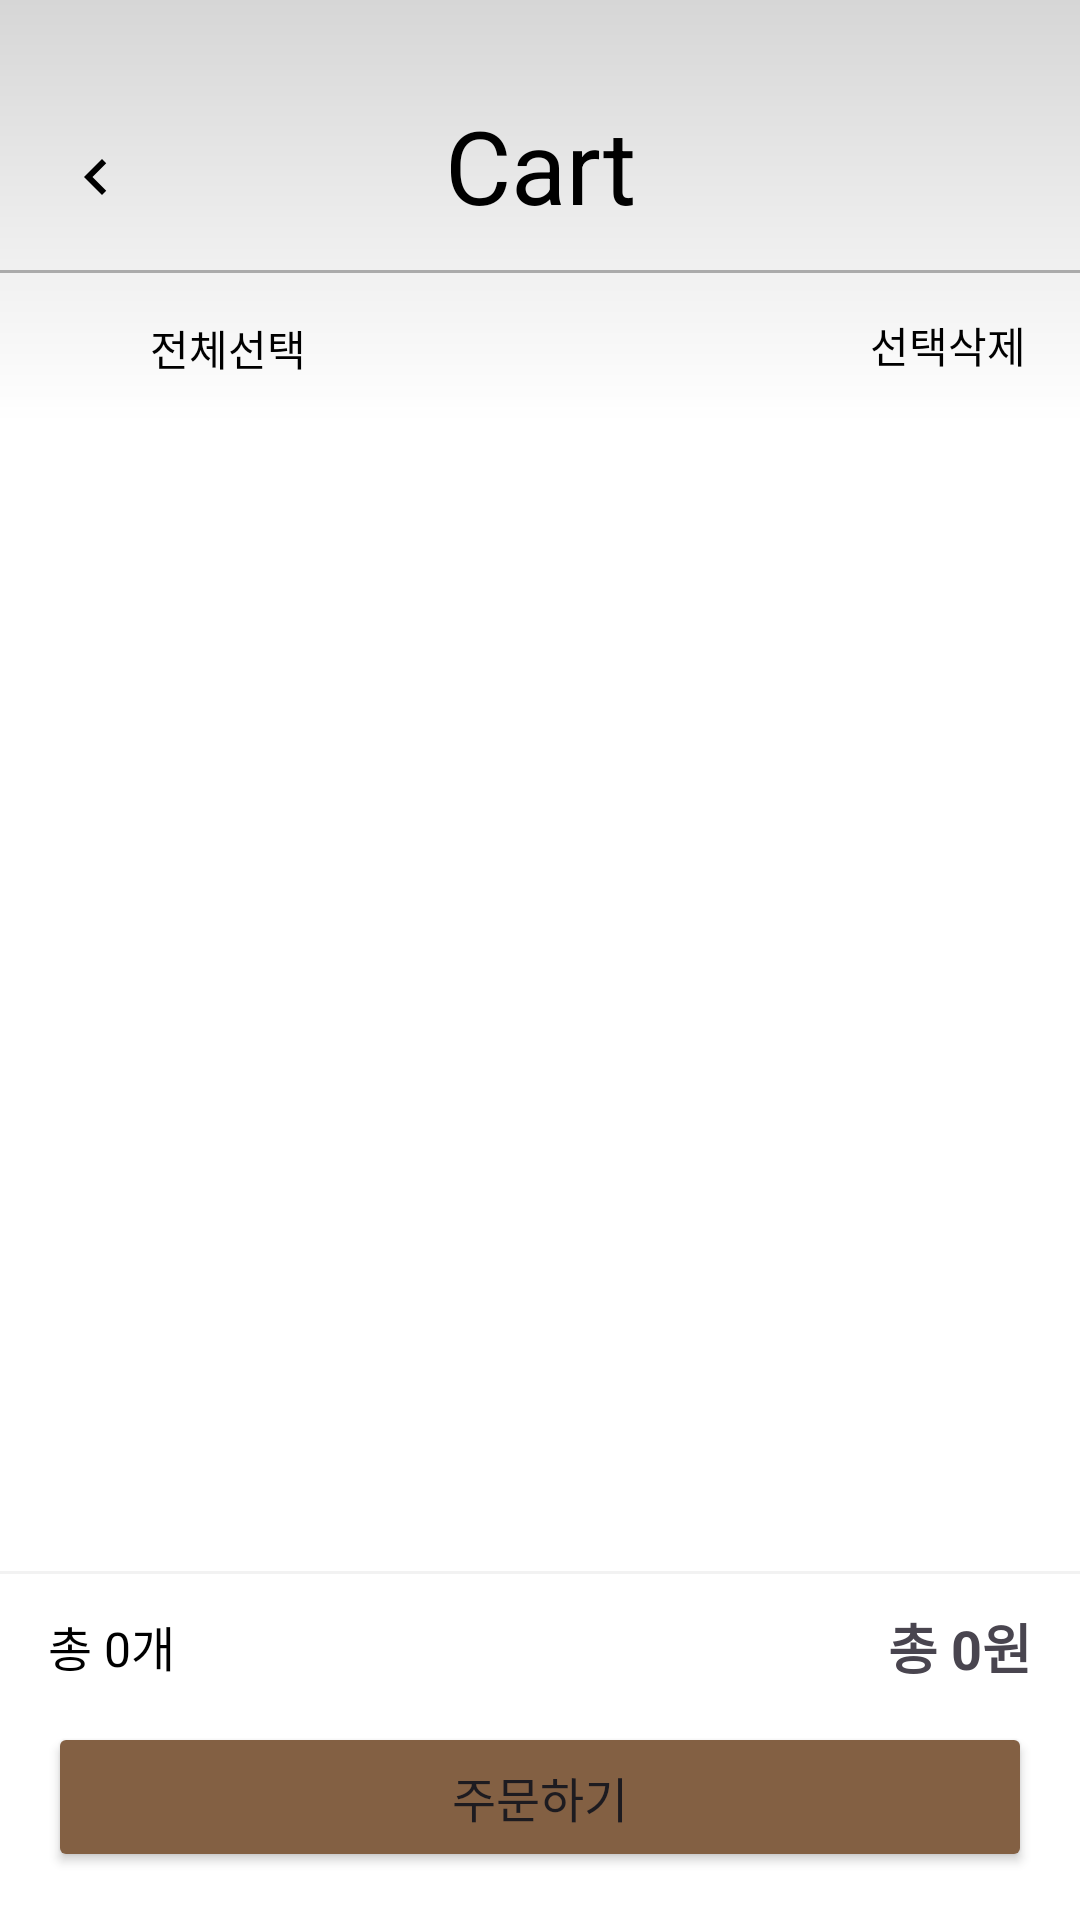

Icon click points for this 1080x1920 phone screenshot, format point (x, y):
back: point (95, 177)
